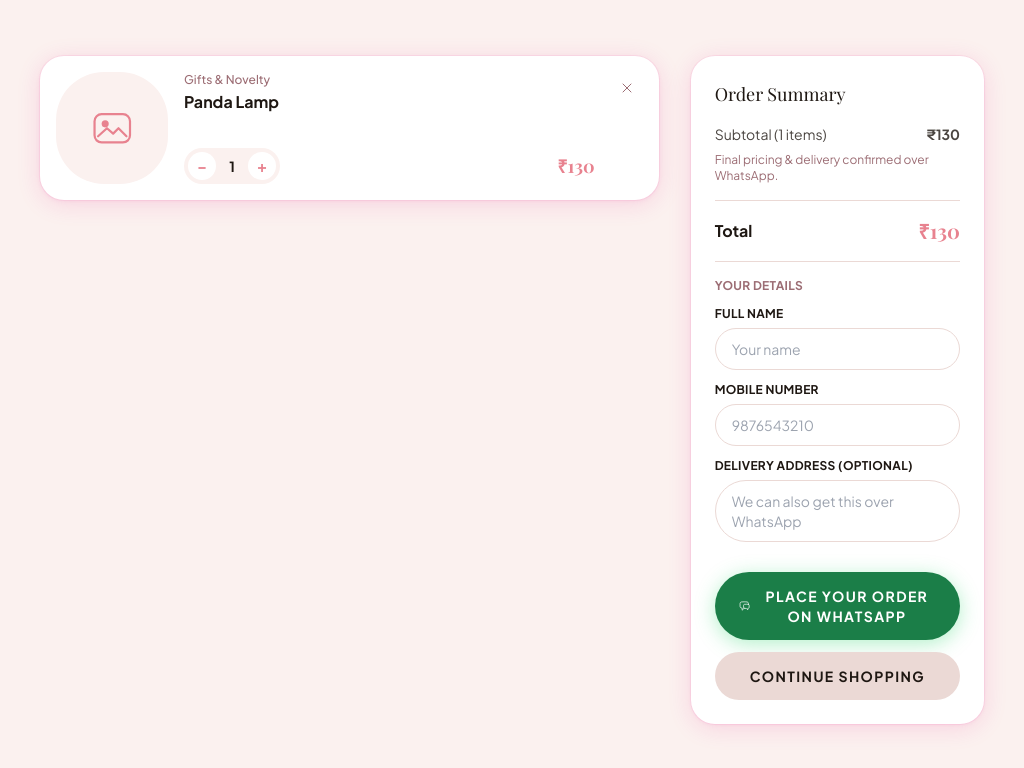
Test: CartClient › increases quantity and subtotal when the + button is clicked
Expected: the link "Panda Lamp" is shown, [184,91,279,112]
Click the button named "Increase quantity". click: click(262, 166)
box: [248,152,276,180]
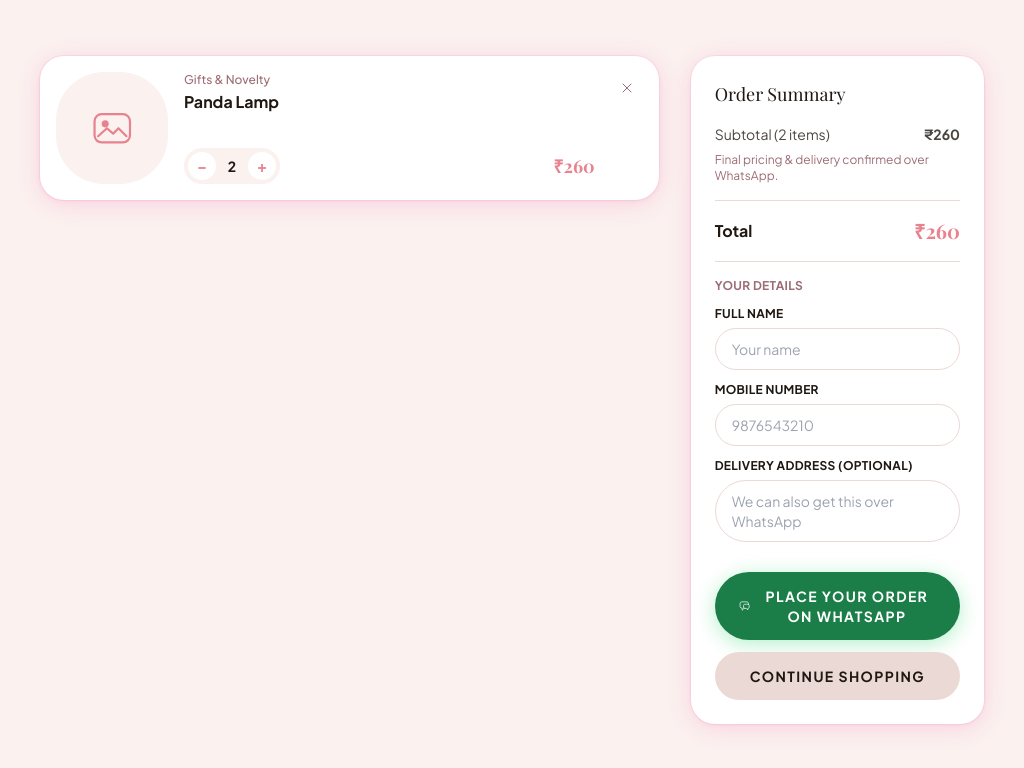
Now the text "2" is shown, box [228,157,236,175]
Now the 2nd text "₹260" is shown, box [553,152,595,180]
